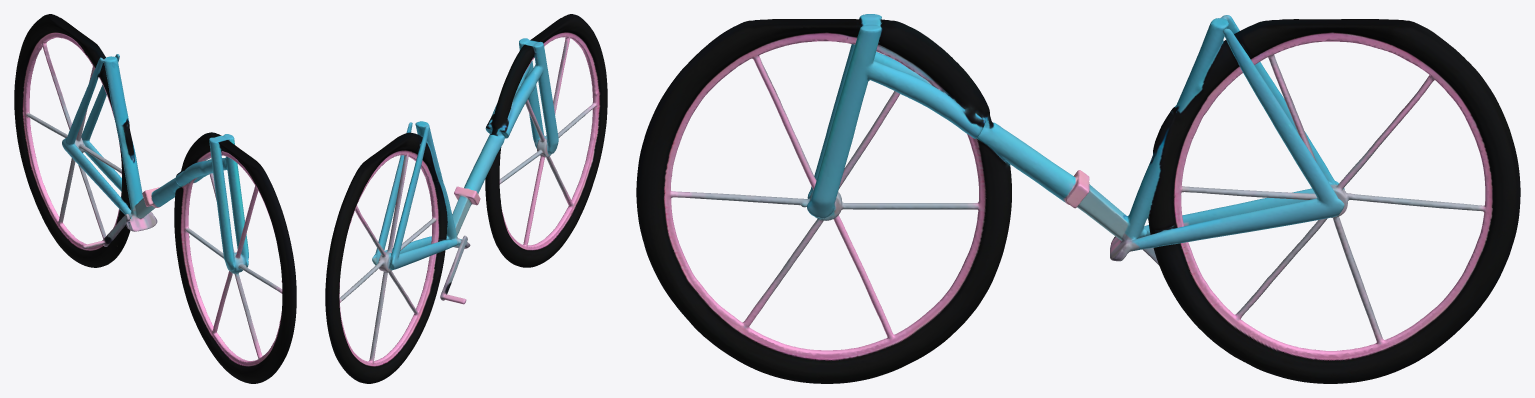
File: bike-fuser.glb
The picture shows the model from 3 angles, left to right: view 1: azimuth 30°, elevation 25°; view 2: azimuth 150°, elevation 25°; view 3: azimuth 270°, elevation 25°; orthographic projection. The views are drawn at different scales.
Visible parts, largest first — view 1: tripo_node_ba870797-d4b2-46b8-980b-208156edad82; view 2: tripo_node_ba870797-d4b2-46b8-980b-208156edad82; view 3: tripo_node_ba870797-d4b2-46b8-980b-208156edad82.
Part boxes in pixels (x1,y1,x2,y2): tripo_node_ba870797-d4b2-46b8-980b-208156edad82: (14,14,296,383); tripo_node_ba870797-d4b2-46b8-980b-208156edad82: (325,14,607,383); tripo_node_ba870797-d4b2-46b8-980b-208156edad82: (636,14,1520,383).
Bounding box in the file's own units: 0.1026 × 0.4525 × 1.
Materials: 1 (1 with a texture image).
